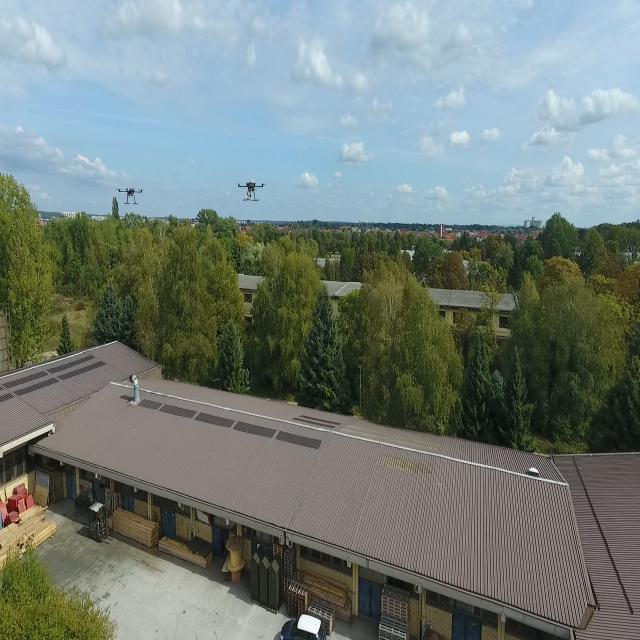UAV: (104, 182, 154, 211), (231, 176, 270, 204)
